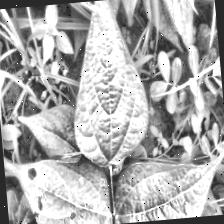ALS: (111, 157, 208, 224), (22, 158, 114, 224)
